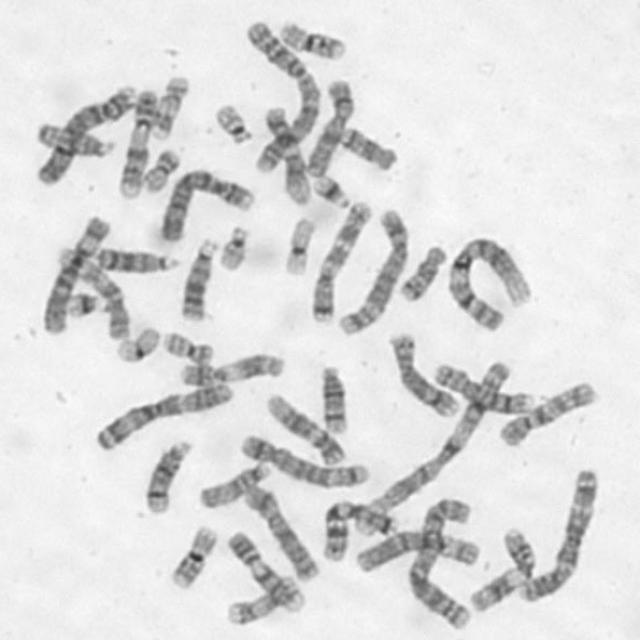A1: (351, 353, 515, 533), (442, 230, 536, 334)
A2: (240, 15, 323, 176), (402, 490, 479, 632)
A3: (513, 459, 604, 604), (91, 379, 236, 453)
B4: (32, 79, 141, 187), (154, 164, 258, 243)
B5: (333, 202, 411, 338), (234, 429, 369, 489)
C10: (494, 375, 600, 448), (53, 242, 131, 341)
C11: (463, 523, 539, 614), (173, 348, 287, 388)
C12: (262, 388, 348, 467), (258, 98, 314, 208)
C6: (35, 210, 112, 336), (351, 523, 483, 575)
C7: (304, 194, 376, 326), (317, 497, 399, 562)
C8: (386, 327, 462, 419), (430, 358, 538, 417)
C9: (222, 525, 308, 613), (115, 82, 161, 200)
D13: (175, 233, 223, 323), (89, 240, 181, 274)
D14: (140, 433, 196, 516), (315, 360, 352, 436)
D15: (195, 456, 275, 510), (30, 116, 117, 160)
E16: (166, 520, 220, 590), (273, 14, 350, 62)
E17: (222, 572, 302, 628), (146, 69, 192, 141)
E18: (394, 238, 450, 303), (337, 122, 399, 172)
F19: (280, 210, 317, 278), (111, 322, 162, 365)
F20: (157, 325, 216, 365), (138, 143, 182, 194)
G21: (309, 168, 354, 209), (61, 287, 106, 321)
G22: (210, 98, 256, 146), (213, 219, 253, 273)
X: (238, 479, 322, 584), (299, 72, 357, 178)
